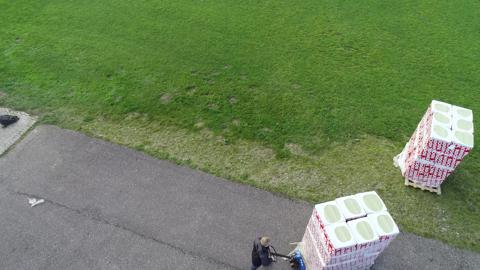RockwoolPallet: (299, 192, 397, 267)
